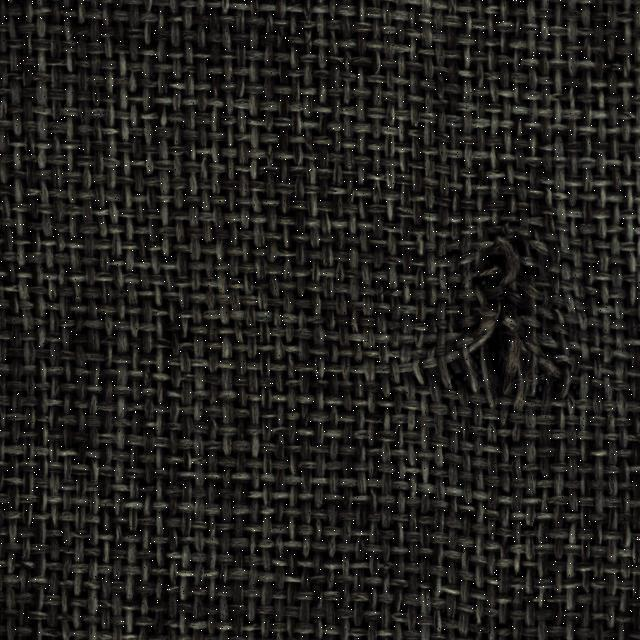hole: (437, 212, 579, 412)
